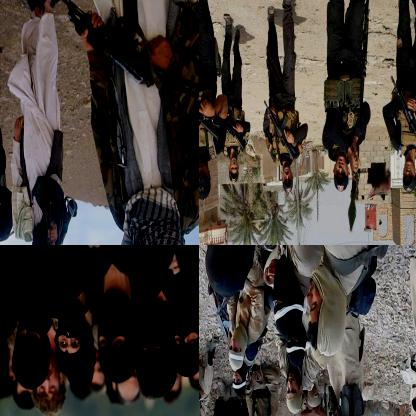rifle: (49, 0, 198, 109), (261, 93, 298, 168), (25, 197, 79, 244), (390, 70, 415, 156), (199, 72, 221, 146), (208, 292, 234, 342), (347, 171, 365, 241), (224, 114, 250, 154)
